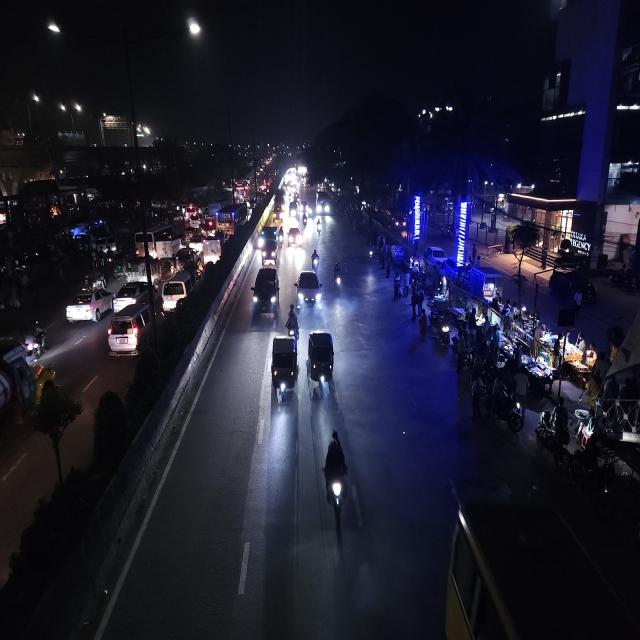bus: (218, 204, 248, 238), (136, 226, 154, 259), (316, 191, 331, 214)
car: (105, 298, 165, 360), (63, 284, 117, 328), (250, 264, 280, 324), (160, 269, 199, 312), (292, 267, 322, 312), (112, 278, 158, 305), (173, 248, 202, 272), (425, 244, 447, 269), (286, 223, 302, 250), (189, 234, 205, 252), (288, 199, 299, 219), (272, 205, 283, 223)
cng: (305, 328, 339, 403), (269, 331, 299, 408), (111, 254, 129, 276)
motorcycle: (321, 426, 354, 532), (23, 319, 49, 360), (285, 302, 299, 339), (332, 258, 343, 295), (310, 247, 320, 274), (314, 217, 324, 239), (301, 211, 309, 228)
pedestrian: (409, 281, 423, 320), (416, 308, 429, 342), (392, 270, 402, 300)
truck: (260, 223, 280, 266), (204, 233, 224, 266), (154, 240, 176, 258)
